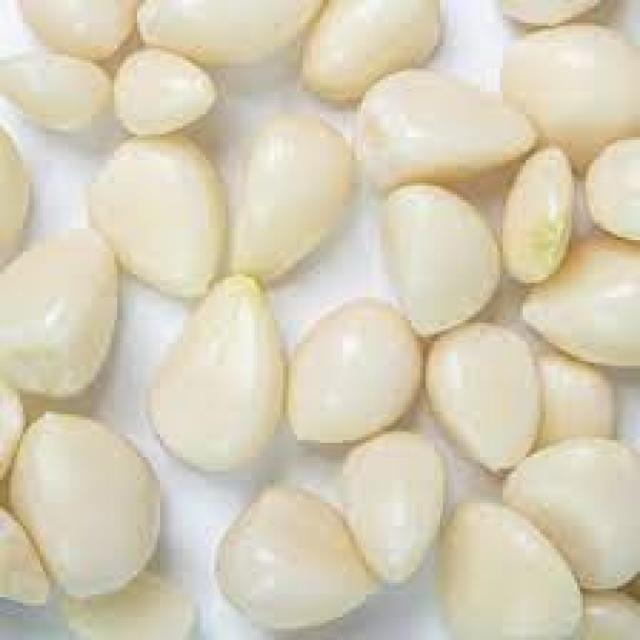Garlic bulb: (80, 114, 637, 637)
